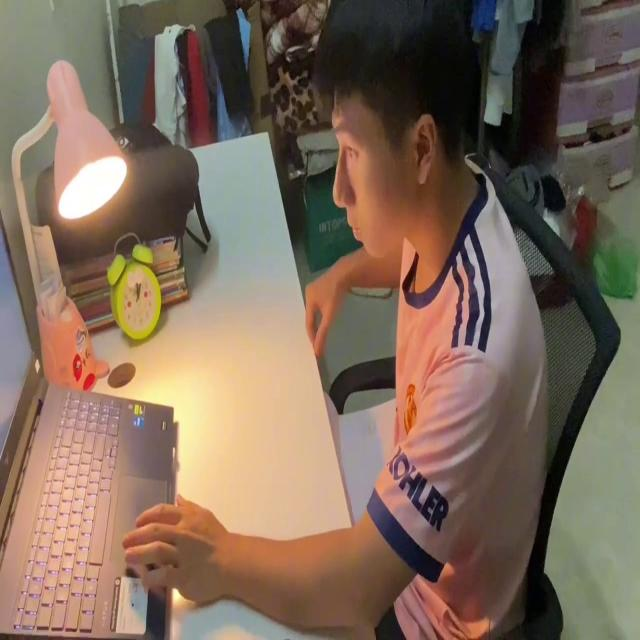book: (321, 380, 401, 525)
laptop: (0, 204, 174, 639)
student: (122, 0, 550, 640)
